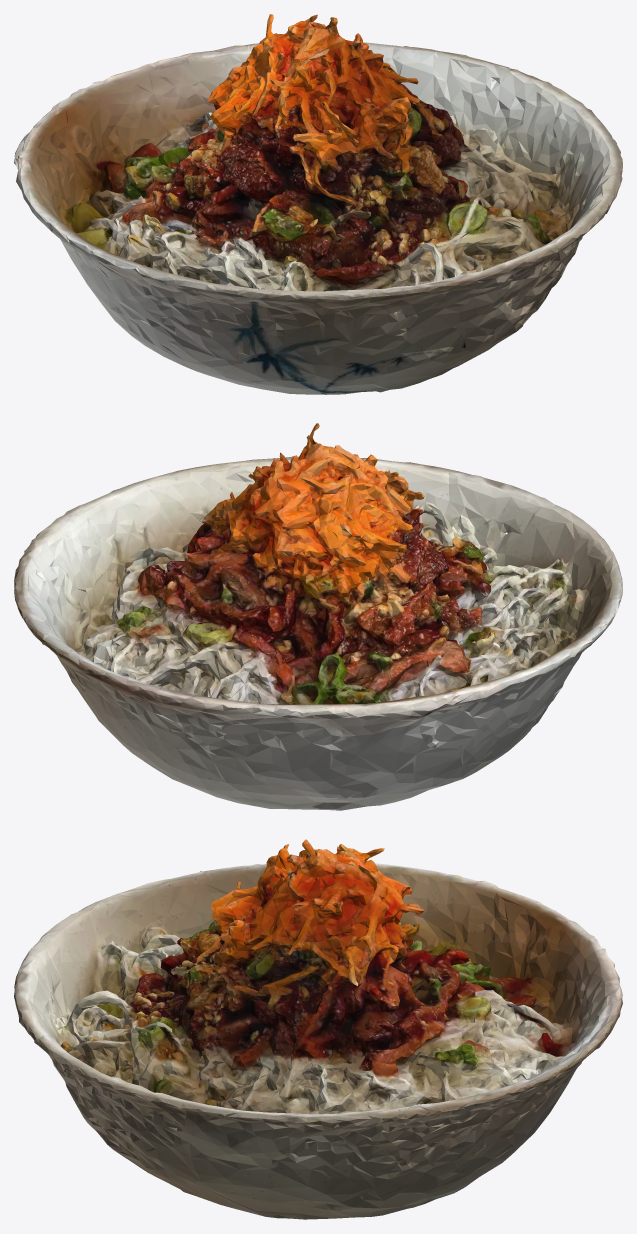
File: Vietnamese food-optimized.glb
3 views of the same model, one above another, from view 1: azimuth 30°, elevation 25°; view 2: azimuth 150°, elevation 25°; view 3: azimuth 270°, elevation 25° (orthographic).
Size of the model in its own units: 0.7722 by 0.441 by 0.7713.
Materials: 1 (1 with a texture image).
